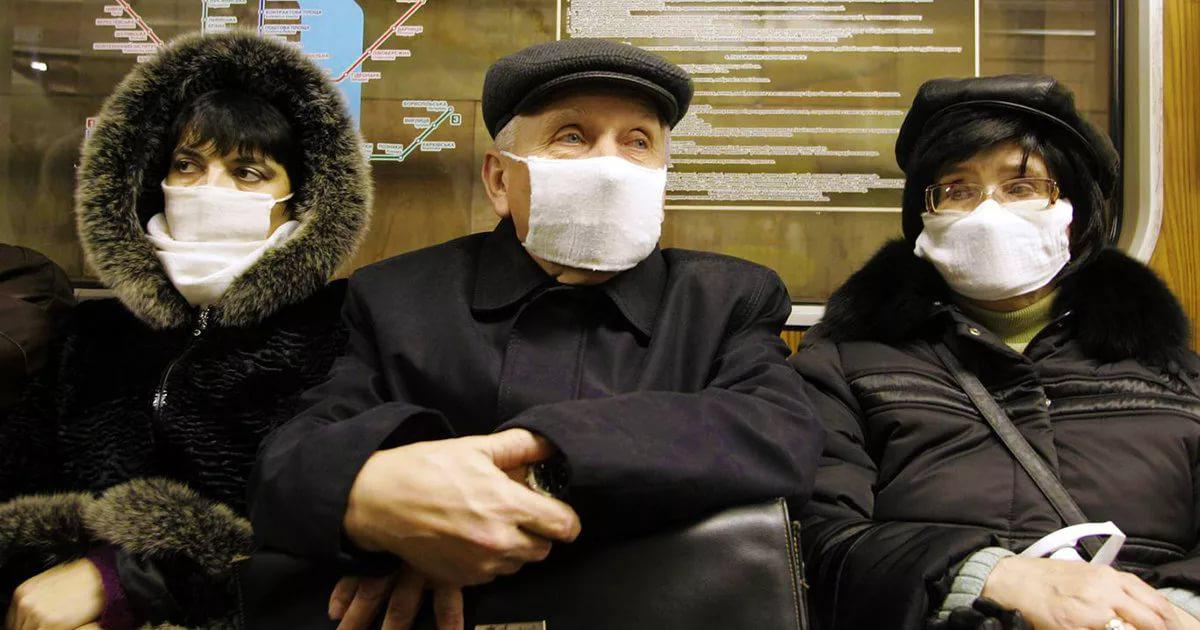mask: (143, 98, 311, 298), (501, 84, 670, 270), (916, 140, 1067, 300)
